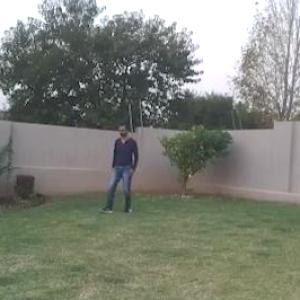follow: (107, 121, 138, 218)
